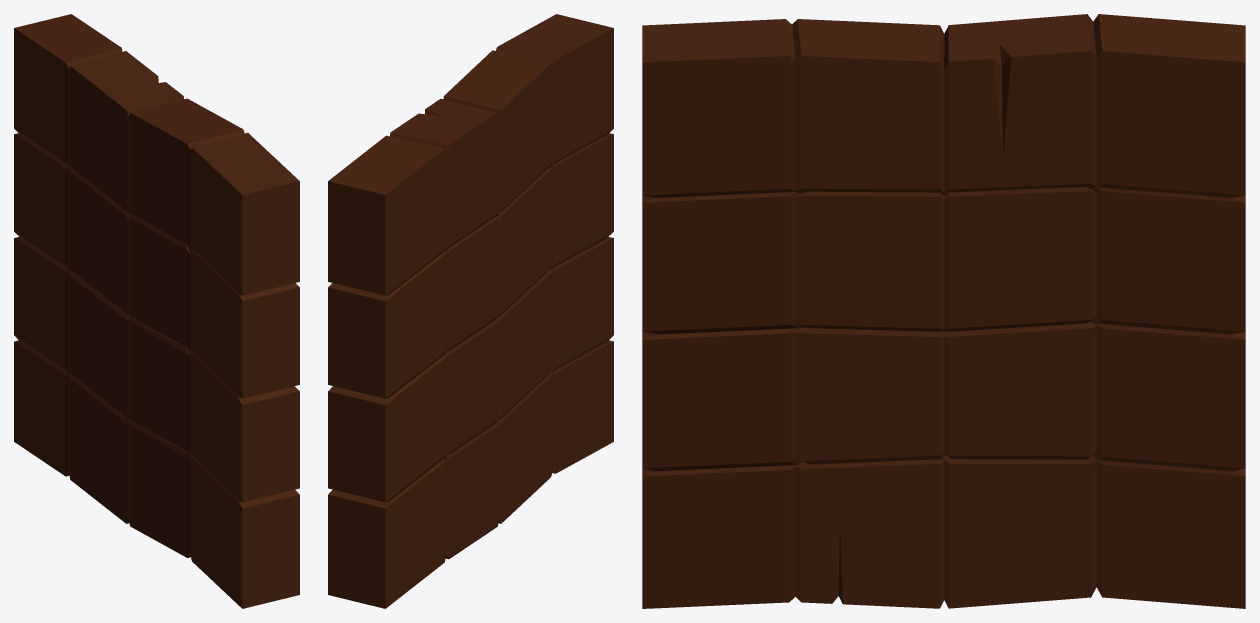
The model's file is PAREDE_02.fbx.
3 views of the same model, side by side, from view 1: azimuth 30°, elevation 25°; view 2: azimuth 150°, elevation 25°; view 3: azimuth 270°, elevation 25° (orthographic). The views are drawn at different scales.
Parts seen in each view (by area): view 1: Parede_02; view 2: Parede_02; view 3: Parede_02.
Boxes of the visible parts, left/top/right/bottom form: Parede_02: left=14, top=14, right=299, bottom=608; Parede_02: left=328, top=14, right=613, bottom=608; Parede_02: left=642, top=14, right=1245, bottom=608.
Size of the model in its own units: 32.88 by 203 by 200.
